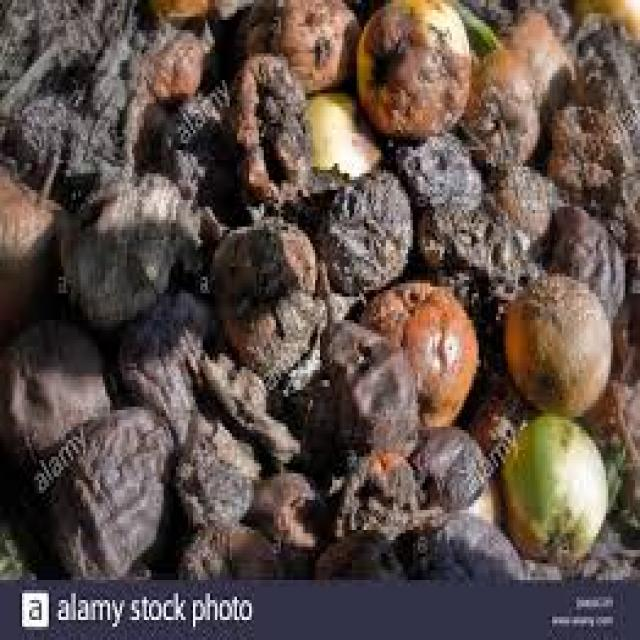organic waste: (0, 0, 638, 580), (115, 287, 256, 520), (381, 130, 545, 310), (56, 166, 222, 326), (27, 404, 173, 574), (0, 0, 141, 173), (290, 313, 418, 470), (0, 313, 110, 490), (357, 277, 474, 430), (205, 217, 318, 373), (500, 266, 610, 416), (351, 0, 471, 133), (501, 414, 603, 564), (183, 340, 298, 460), (225, 50, 310, 210), (0, 153, 73, 329), (156, 50, 234, 203), (232, 0, 362, 87), (401, 506, 557, 576), (328, 164, 410, 284), (498, 10, 576, 133), (244, 470, 330, 577), (582, 373, 638, 537), (545, 197, 623, 313), (460, 43, 538, 157), (547, 104, 633, 204), (17, 93, 117, 177), (283, 286, 357, 396), (408, 424, 493, 514), (303, 83, 381, 177), (569, 7, 638, 110), (457, 0, 569, 57), (176, 517, 283, 573), (481, 164, 552, 244), (564, 506, 638, 576), (310, 523, 401, 577), (466, 370, 518, 463), (598, 153, 638, 257), (142, 30, 200, 97), (610, 266, 638, 376), (0, 506, 44, 576), (146, 0, 218, 30), (452, 0, 496, 47), (215, 0, 283, 10)
